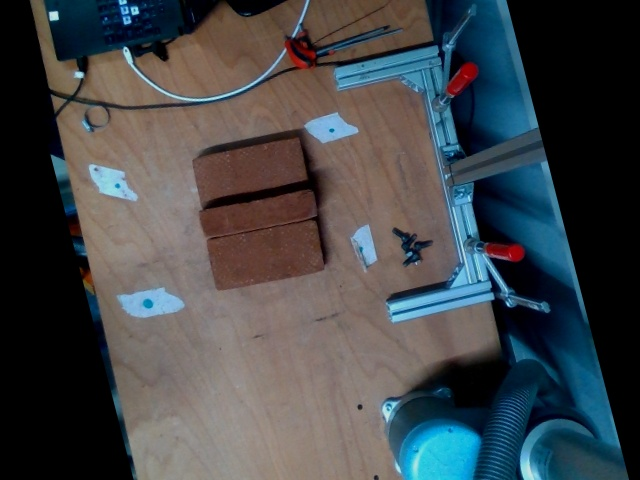brick: (209, 220, 322, 291), (193, 137, 308, 205)
brick-side: (201, 188, 317, 236)
